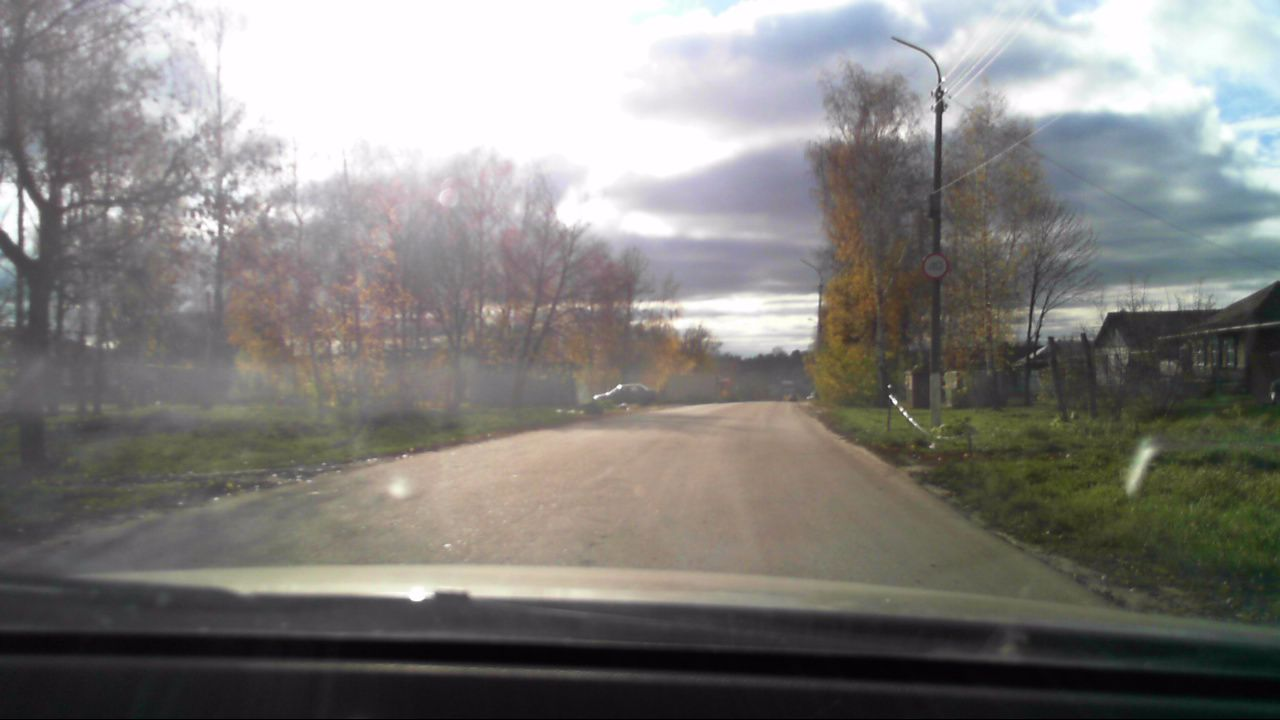speed_warning_40: (922, 255, 946, 280)
